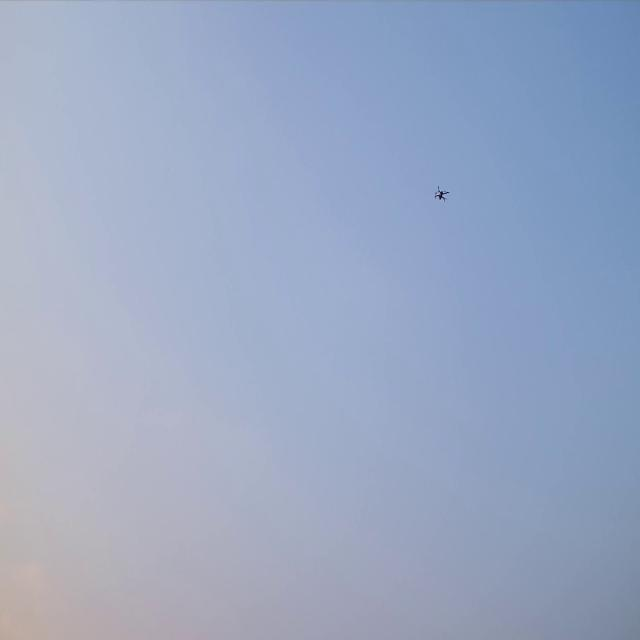UAV: (435, 187, 448, 200)
